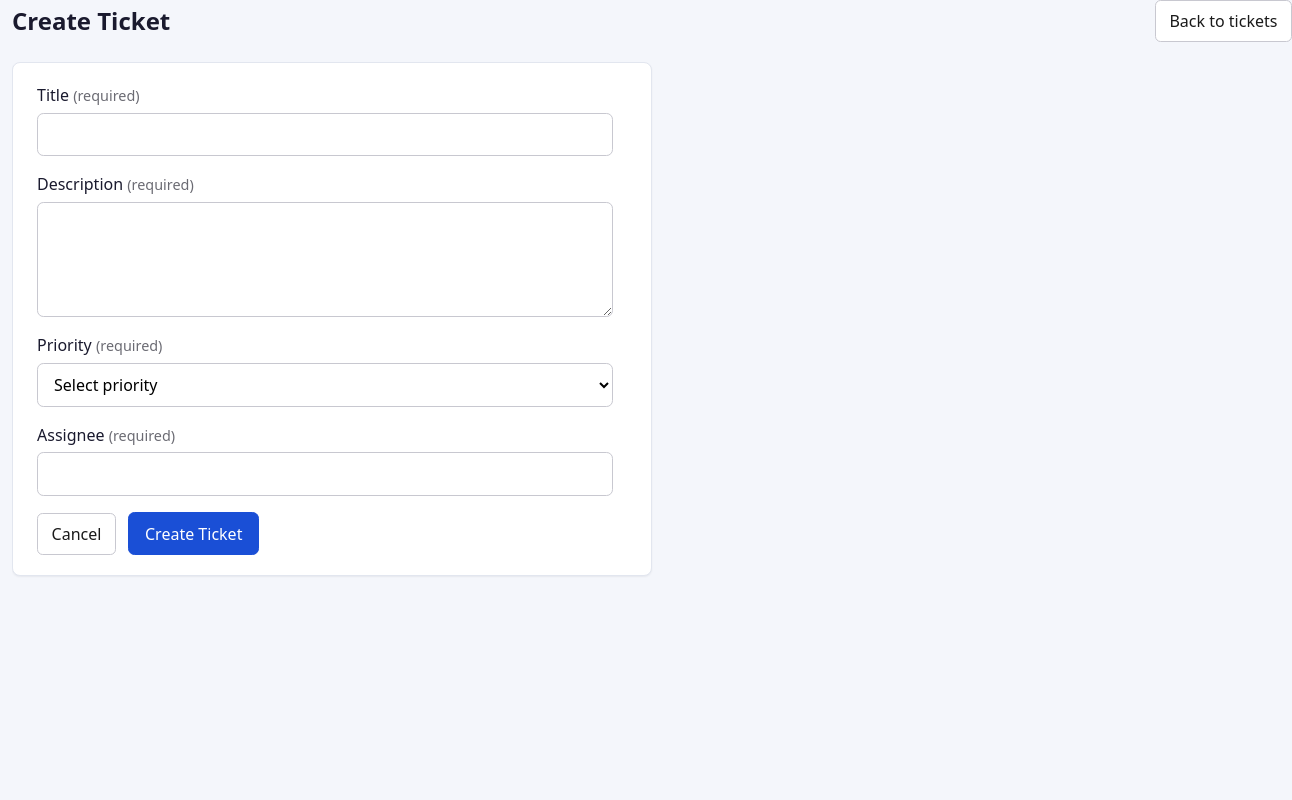
Test: CreateTicketPage › rejects a missing priority before submitting
Type "Unable to login" into the field labelled "Title (required)". click: (325, 134)
box: [37,113,613,156]
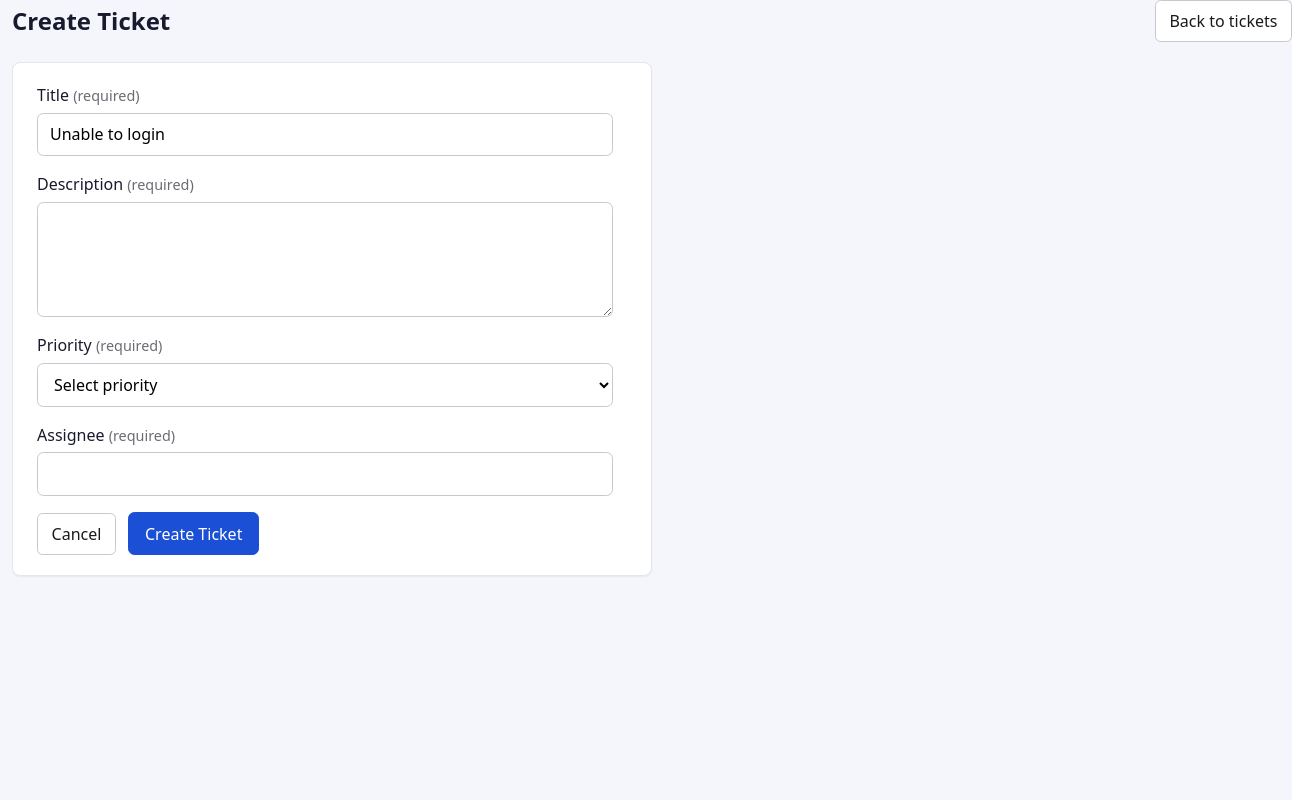
Type "User cannot login to the application." into the text box labelled "Description (required)". click: (325, 260)
box: [37,202,613,317]
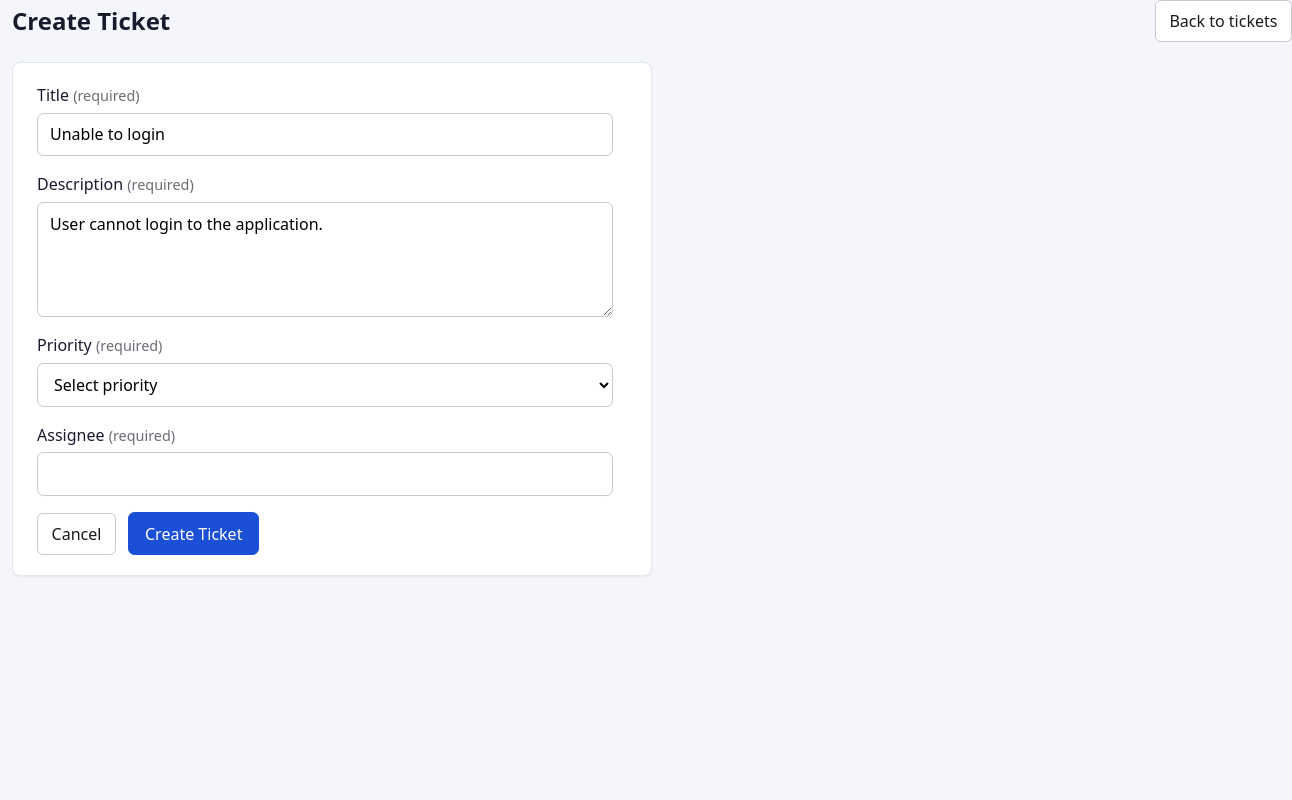
Select "HIGH" in the dropdown labelled "Priority (required)". click: (325, 385)
box: [37,363,613,407]
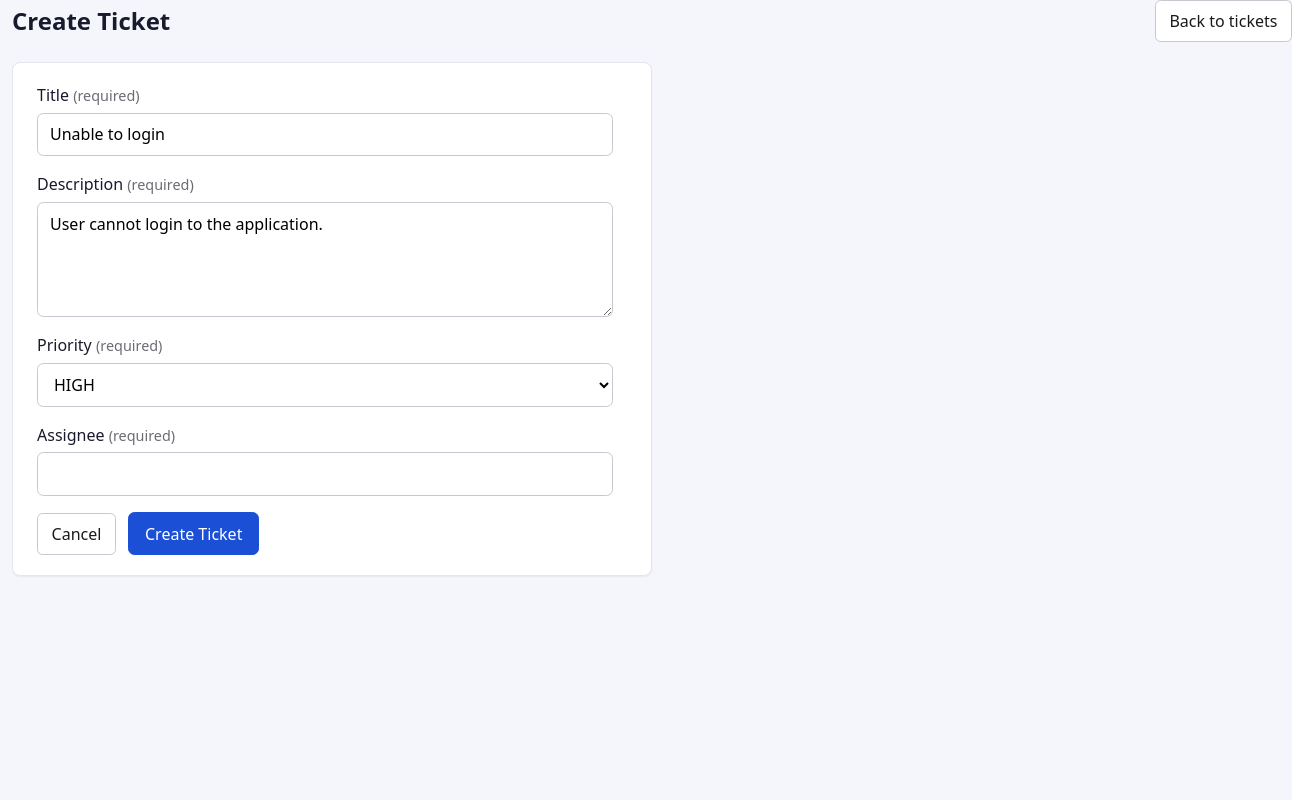
Type "john.doe" into the field labelled "Assignee (required)". click: (325, 474)
box: [37,452,613,496]
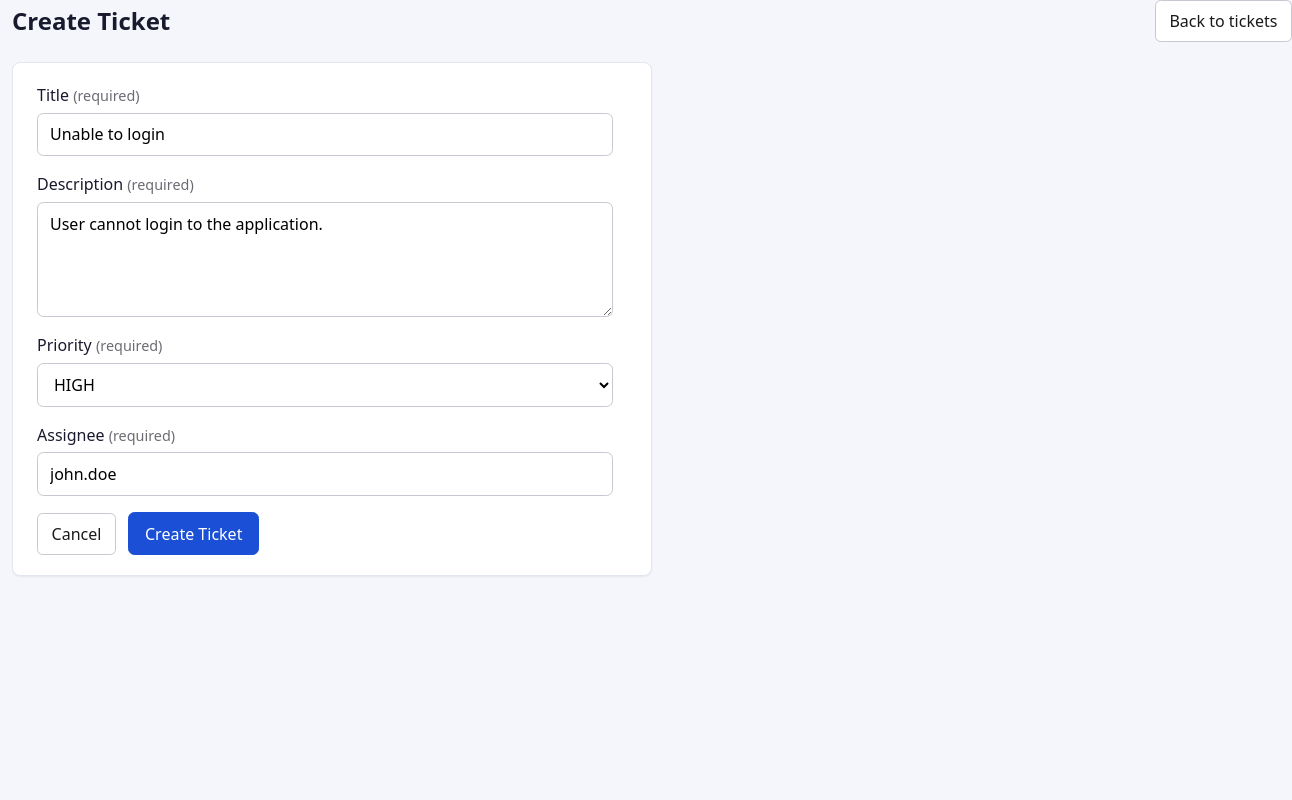
Select "Select priority" in the dropdown labelled "Priority (required)". click: (325, 385)
box: [37,363,613,407]
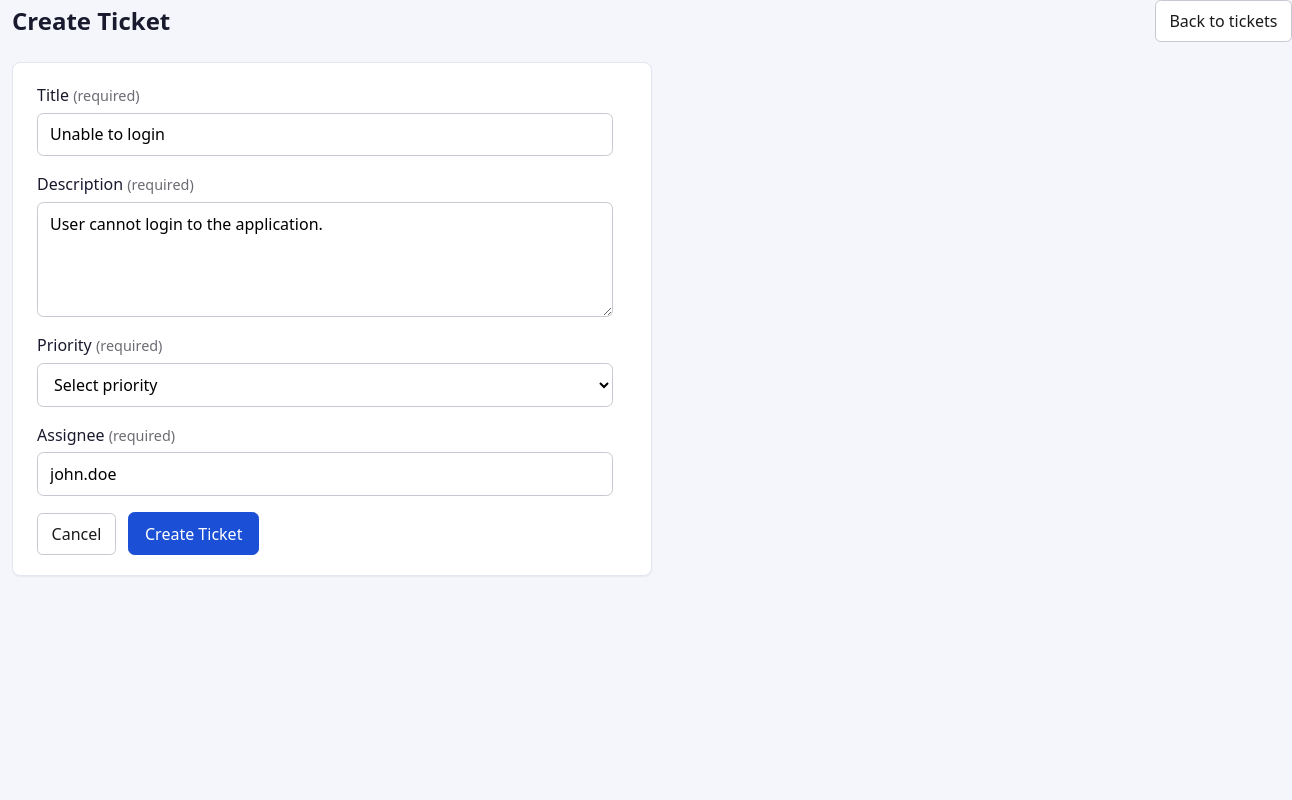
Click the button "Create Ticket". click: (194, 534)
box: [128,512,259,555]
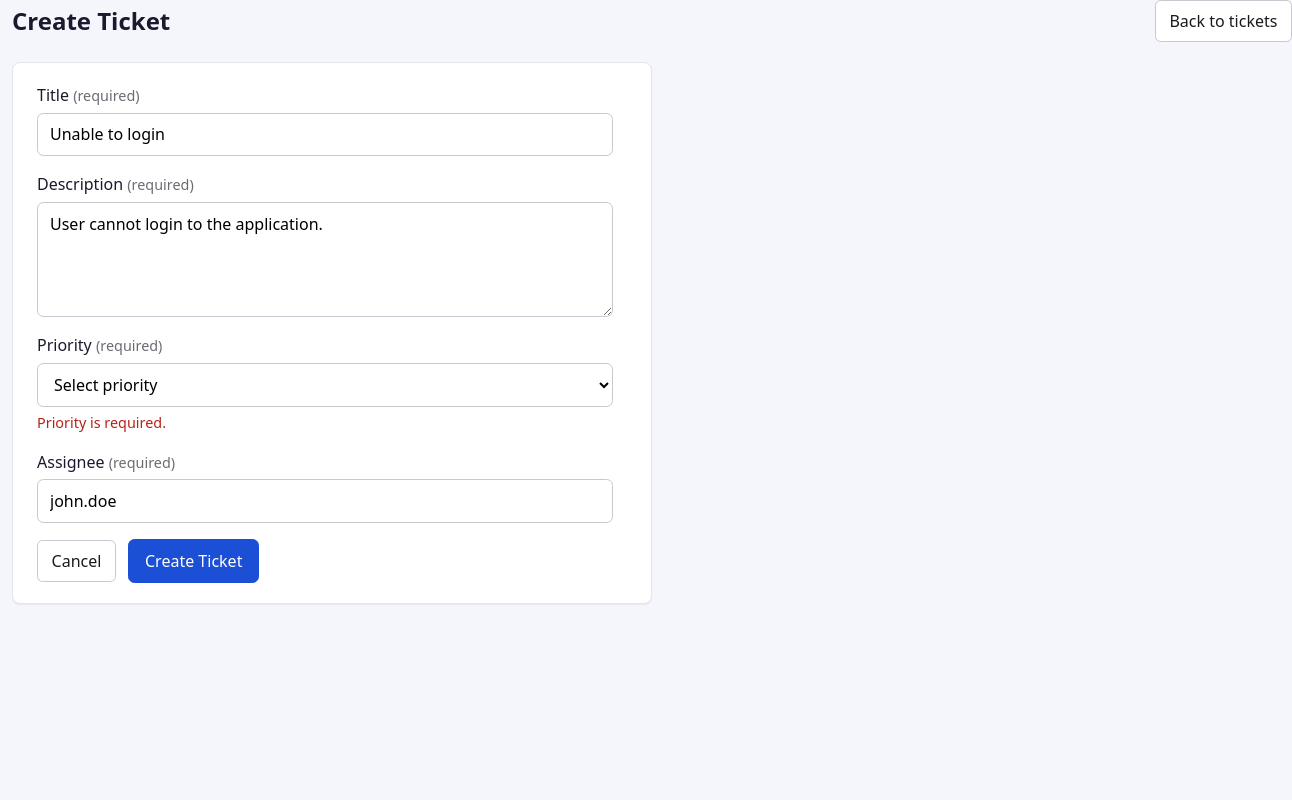
Expected: the text "Priority is required." is shown, [37,413,166,432]
